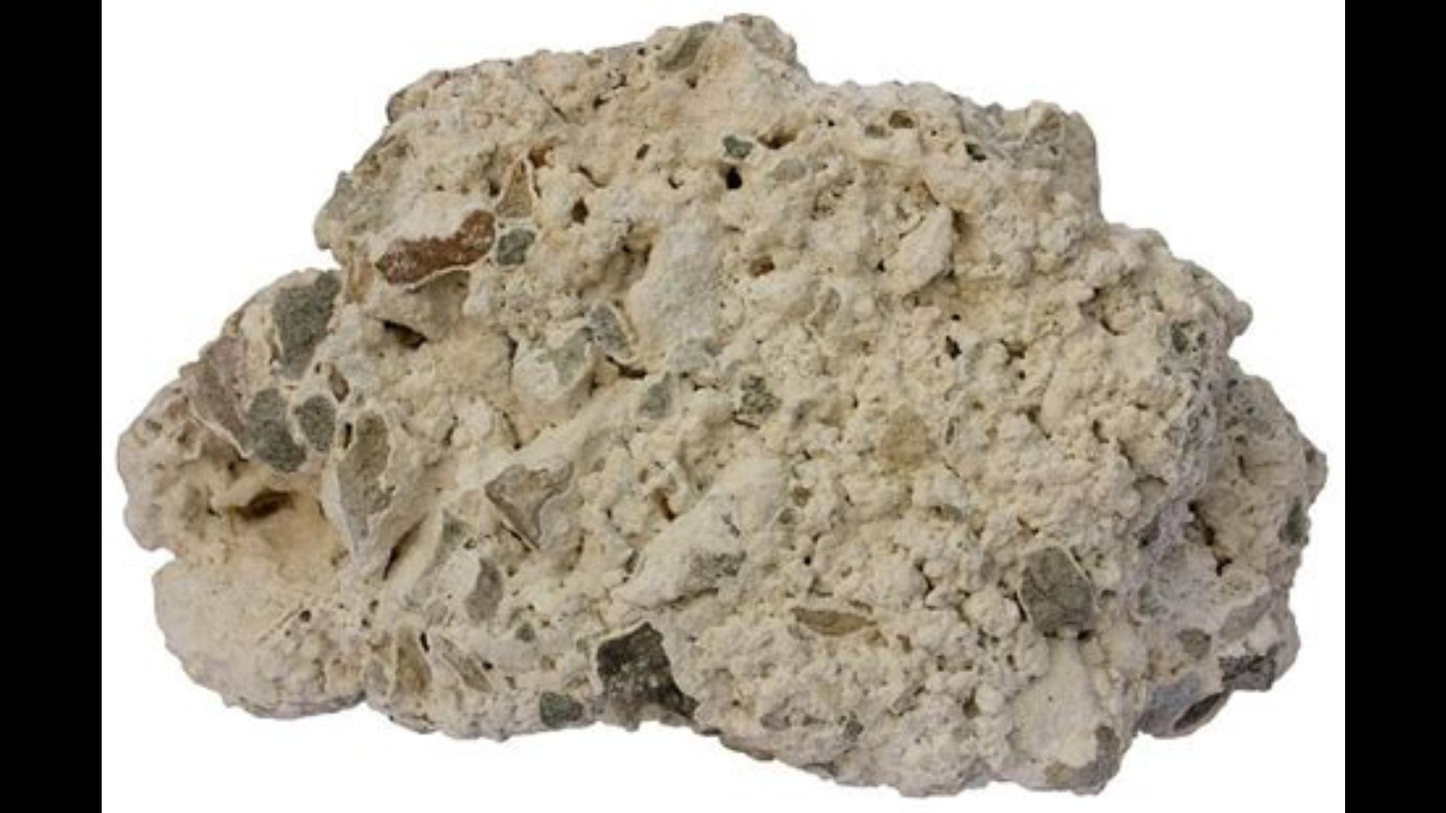rock: (119, 18, 1321, 795)
